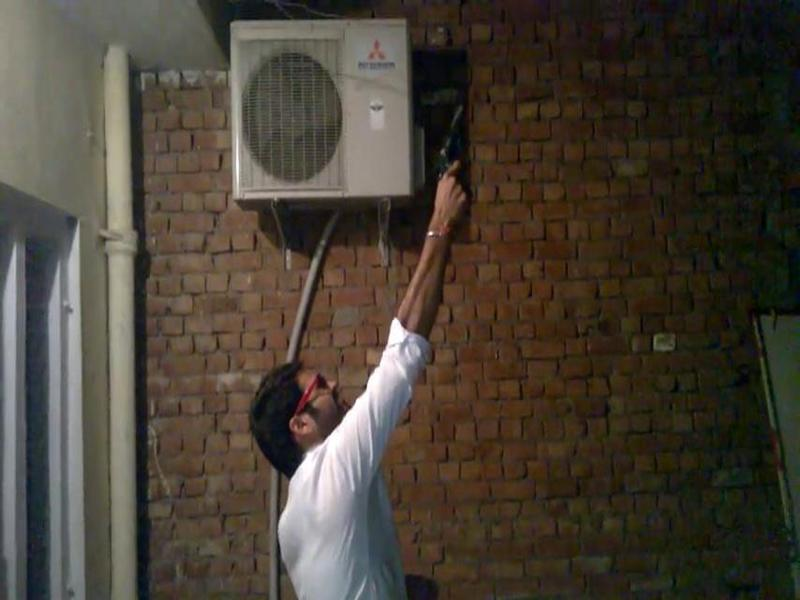Revolver: (418, 92, 497, 211)
